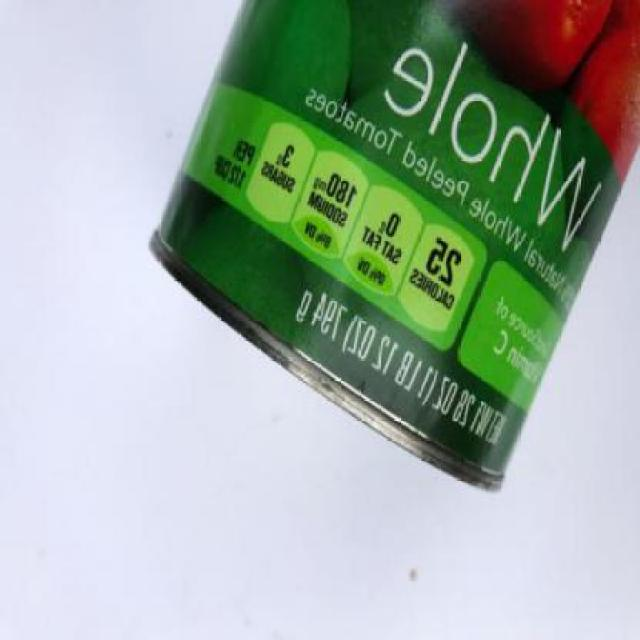METAL: (147, 1, 639, 497)
